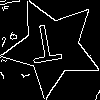T: (27, 22, 66, 73)
